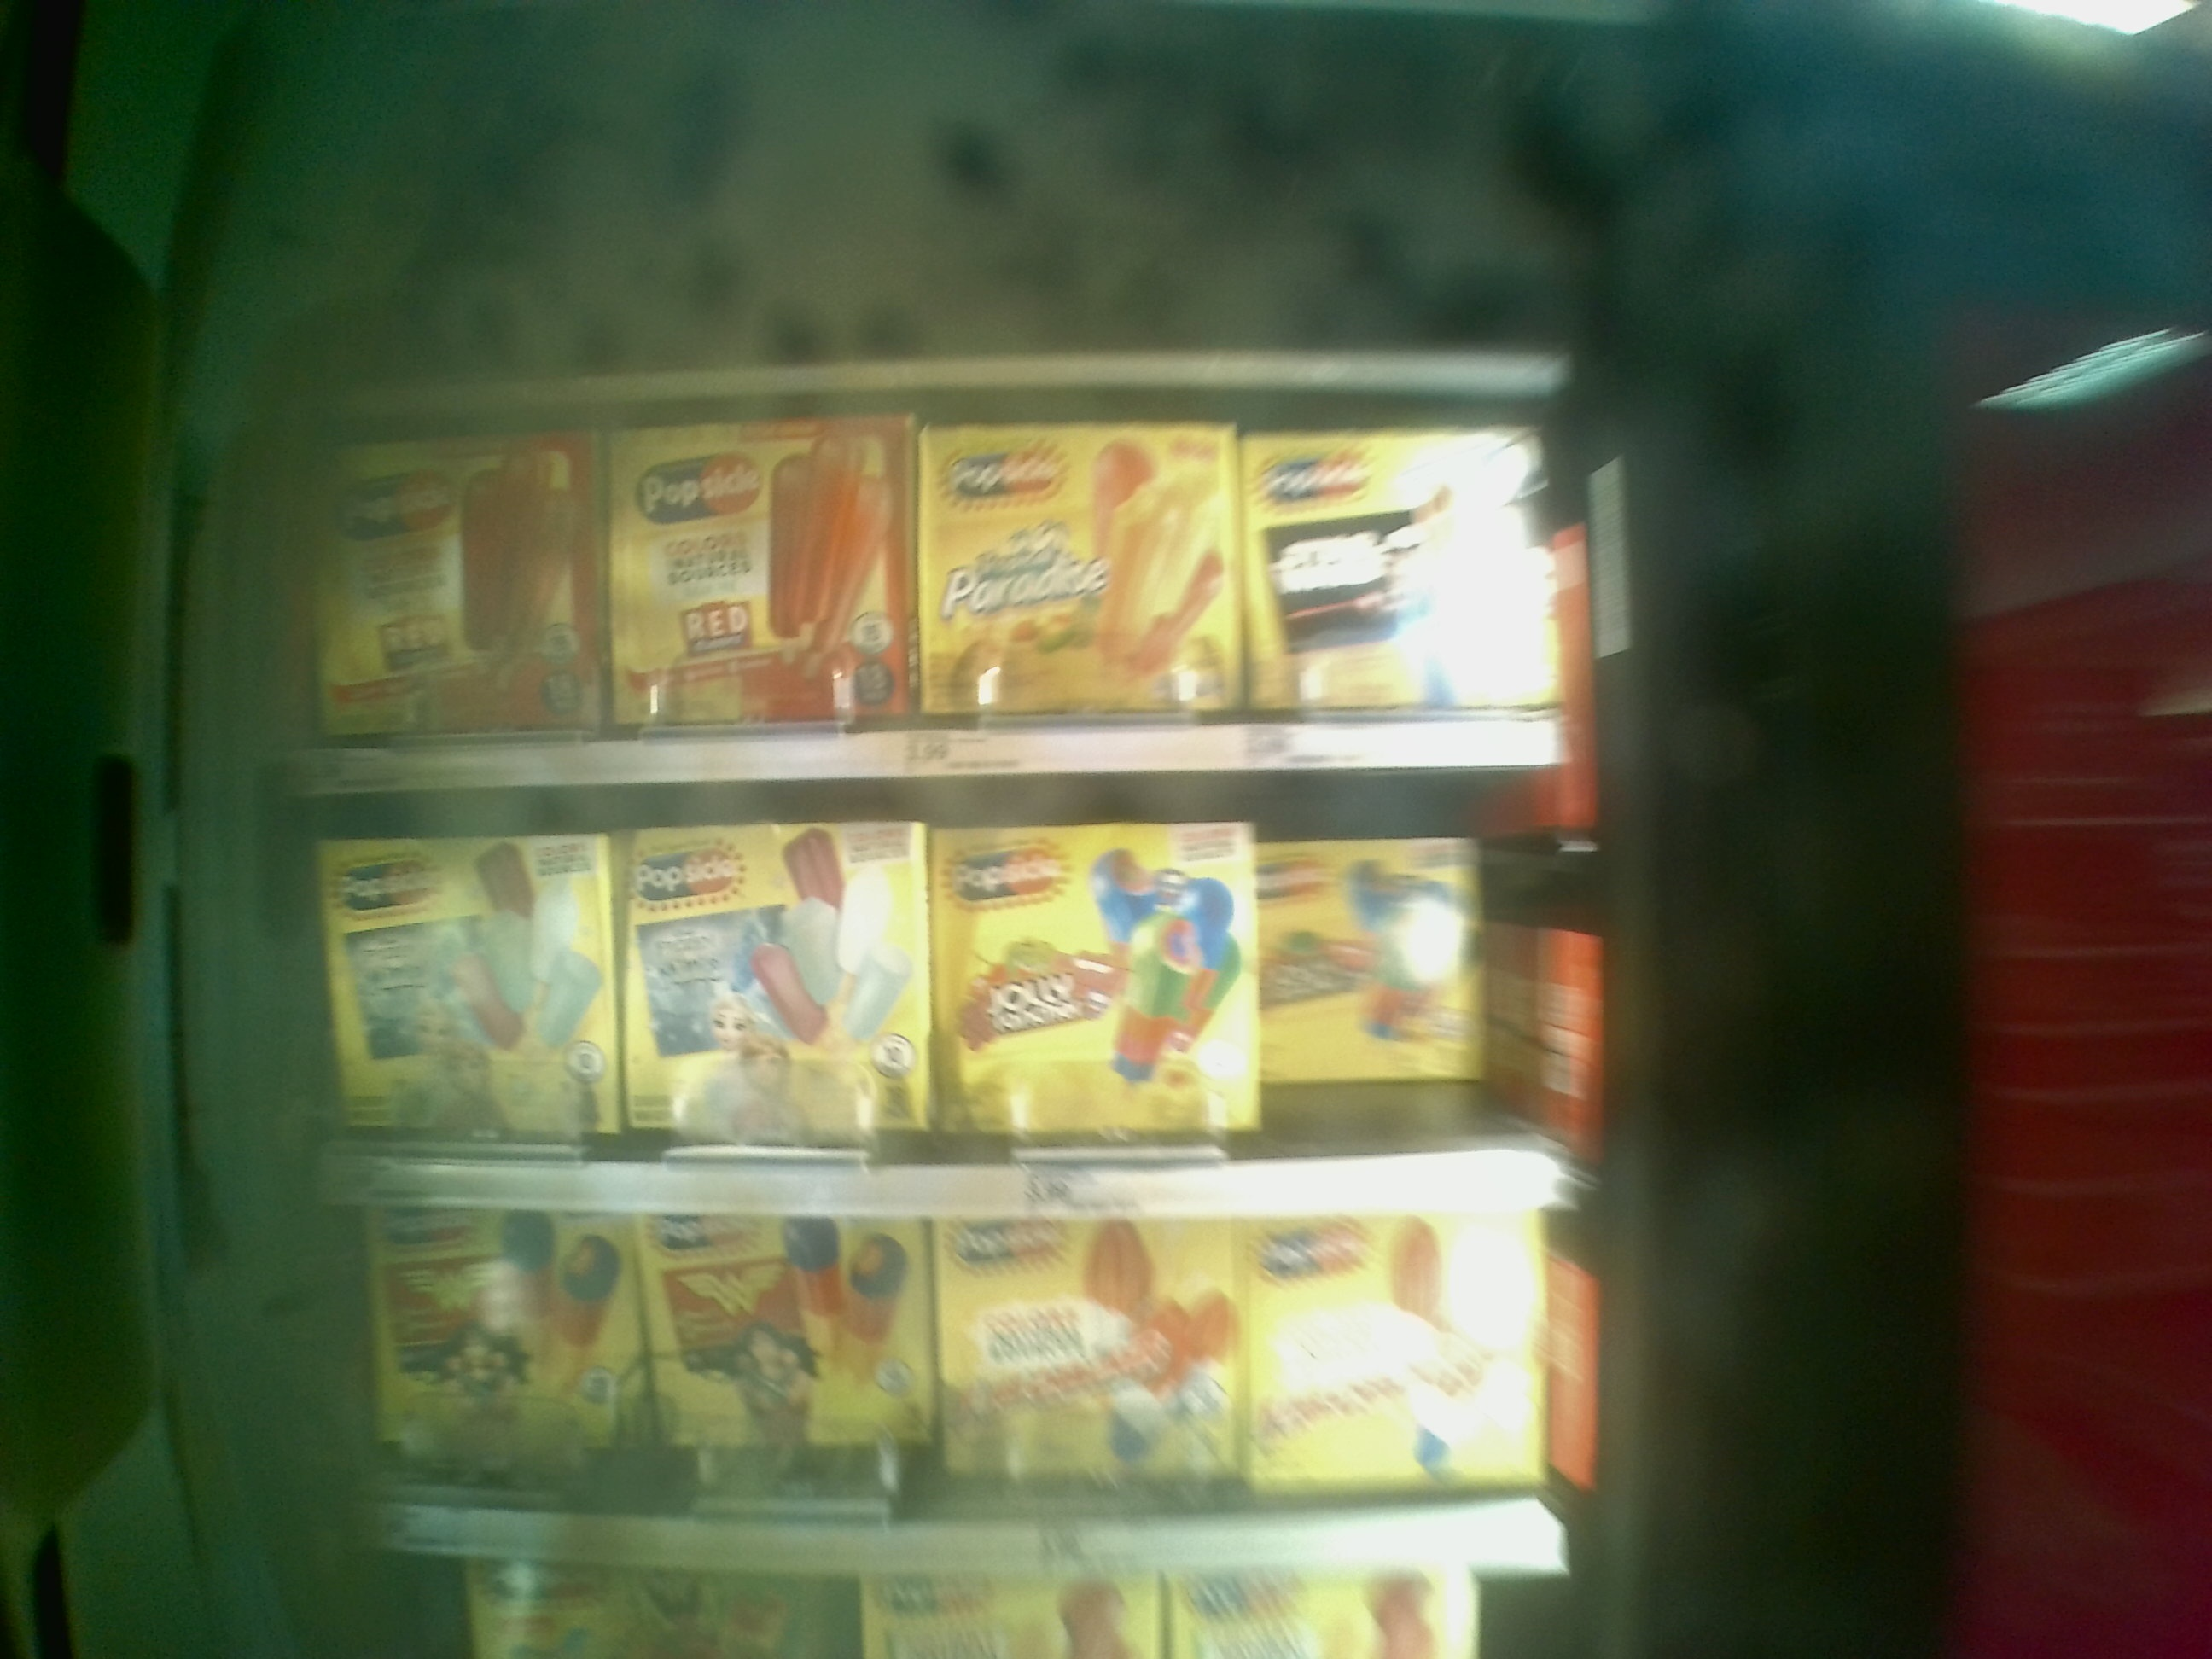frozen-food-shelf: (263, 796, 1656, 1218), (265, 408, 1629, 796)
